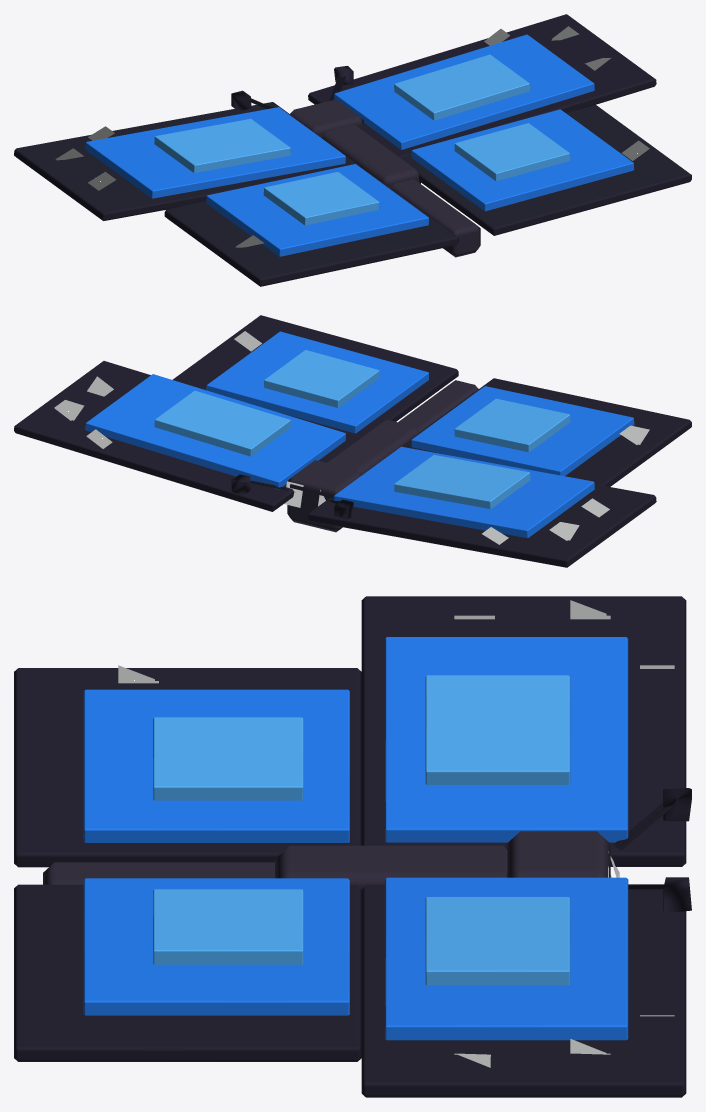
File: butterfly-poly-by-google_814CINpG3H1-blocky_lod1.glb
3 renders of one model, top to bottom at view 1: azimuth 30°, elevation 25°; view 2: azimuth 150°, elevation 25°; view 3: azimuth 270°, elevation 25°, orthographic. The views are drawn at different scales.
Visible parts, largest first — view 1: Butterfly.1; view 2: Butterfly.1; view 3: Butterfly.1.
Part boxes in pixels (x1,y1,x2,y2): Butterfly.1: (14,14,691,286); Butterfly.1: (14,315,691,567); Butterfly.1: (14,596,691,1097).
Bounding box in the file's own units: 210 × 22.22 × 123.
Materials: 1 (1 with a texture image).
